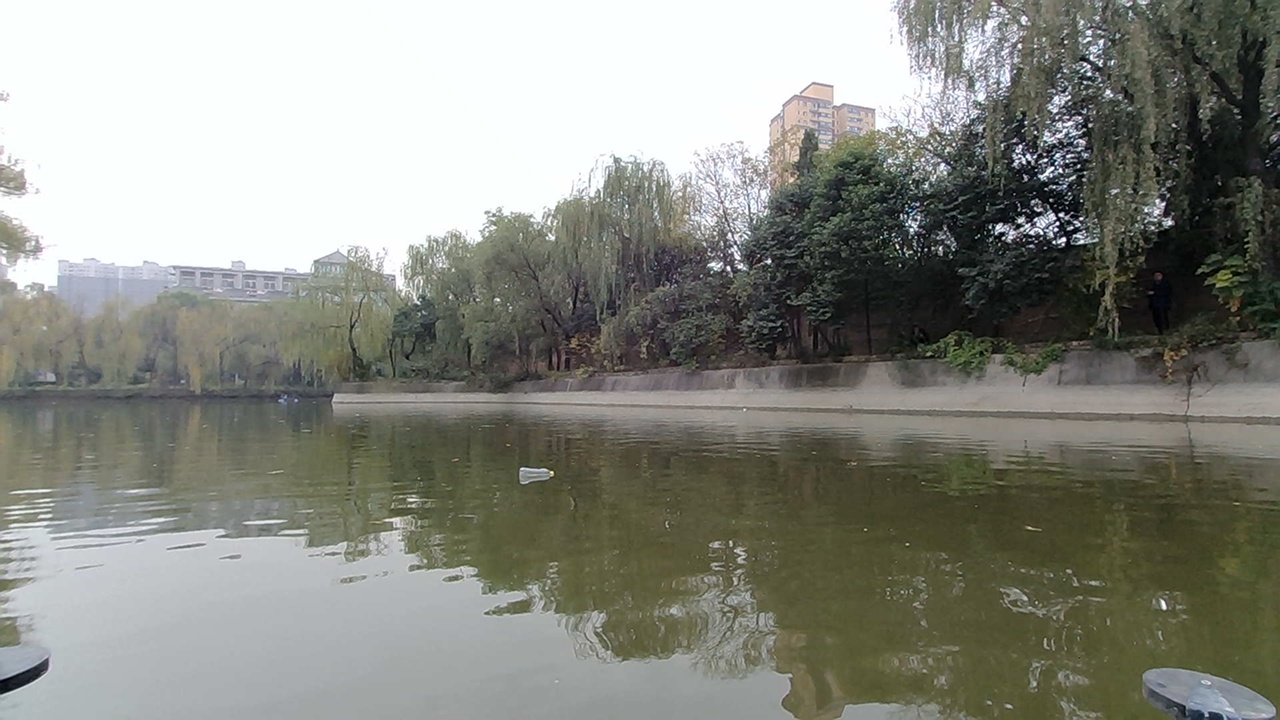bottle: (509, 446, 570, 489)
